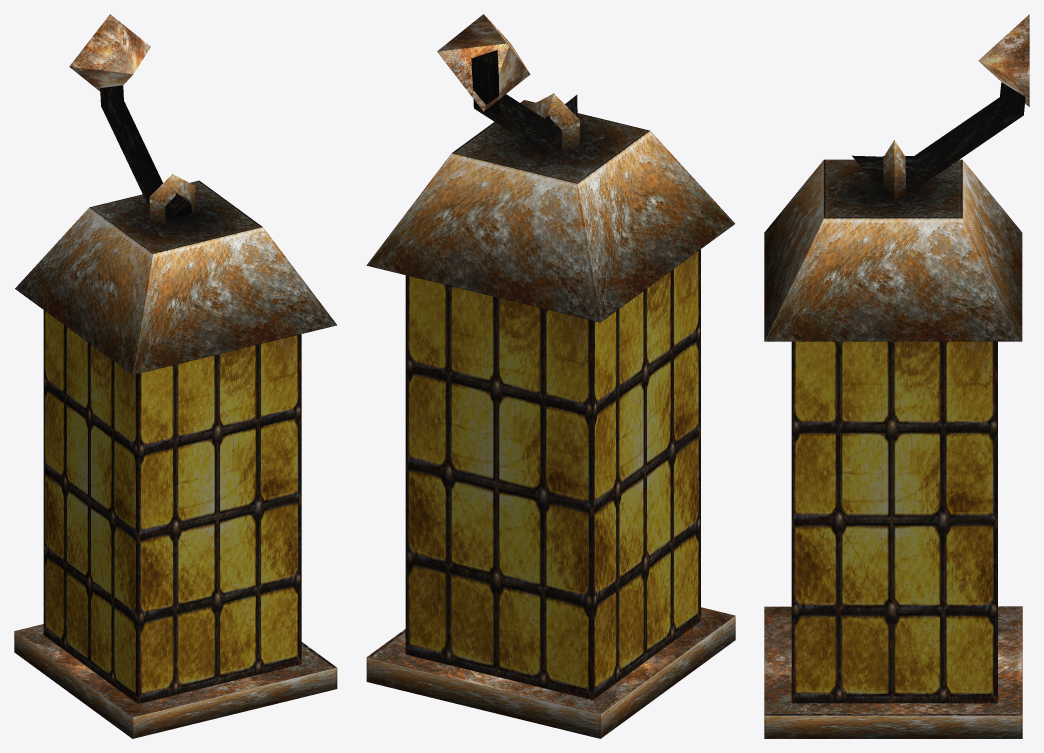
The model's file is mm9_deco_minelantern02.glb.
3 renders of one model, left to right at view 1: azimuth 30°, elevation 25°; view 2: azimuth 150°, elevation 25°; view 3: azimuth 270°, elevation 25°, orthographic. The views are drawn at different scales.
Visible parts, largest first — view 1: Minelantern02; view 2: Minelantern02; view 3: Minelantern02.
Part boxes in pixels (bbox=[...]): Minelantern02: bbox=[14, 14, 337, 738]; Minelantern02: bbox=[366, 14, 735, 738]; Minelantern02: bbox=[764, 14, 1029, 738].
Bounding box in the file's own units: 0.3138 × 0.8958 × 0.3223.
2 materials, 2 textured.
